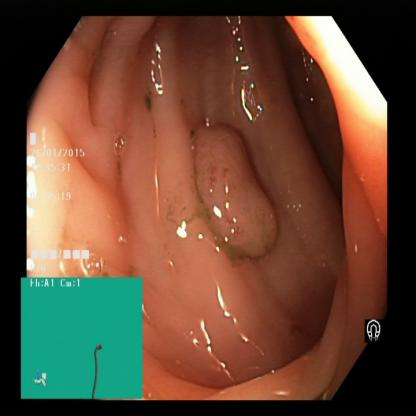Labels: (21, 277, 145, 399), (27, 129, 102, 278), (356, 302, 393, 354)
Polyps: (195, 113, 278, 262)
